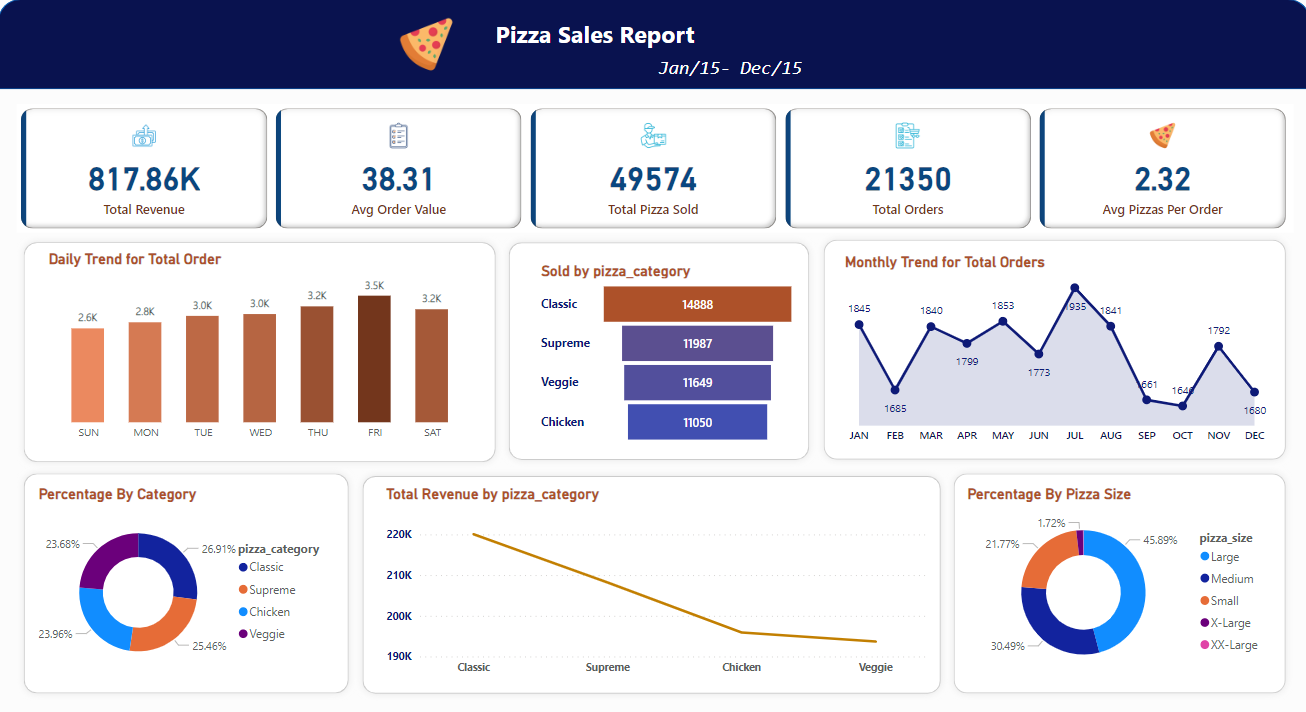

Layout of this report page (visuals, bound fields, positions):
{"tool":"powerbi","page":{"name":"Page 1","canvas":[1500,820],"ordinal":0},"visuals":[{"type":"cardVisual","fields":{"Data":["pizza_sales.Total Revenue","pizza_sales.Avg Order Value","pizza_sales.Total Pizza Sold","pizza_sales.Total Orders","pizza_sales.Avg Pizzas Per Order"]},"box":[20.9,119.7,1459,147.6],"z":0},{"type":"shape","box":[0,0,1500,102.9],"z":1000},{"type":"textbox","box":[558.3,16.7,255,45],"z":2000},{"type":"textbox","box":[725,61.7,225,36.7],"z":3000},{"type":"image","box":[421.8,15.3,136.4,72.4],"z":4000},{"type":"shape","box":[20.9,270.1,555.5,267.3],"z":5000},{"type":"columnChart","title":"Daily Trend for Total Order","fields":{"Category":["pizza_sales.Order Day"],"Y":["pizza_sales.Total Orders"]},"box":[52.9,286.8,494.2,226.9],"z":6000},{"type":"shape","box":[935.6,267.3,544.3,267.3],"z":7000},{"type":"areaChart","title":"Monthly Trend for Total Orders","fields":{"Category":["pizza_sales.Order Month"],"Y":["pizza_sales.Total Orders"]},"box":[963.4,289.6,494.2,226.9],"z":8000},{"type":"shape","box":[20.9,534.6,387,267.3],"z":9000},{"type":"shape","box":[576.4,270.1,359.2,264.5],"z":10000},{"type":"shape","box":[1084.5,534.6,395.4,267.3],"z":11000},{"type":"donutChart","title":"Percentage By Category","fields":{"Category":["pizza_sales.pizza_category"],"Y":["pizza_sales.Total Revenue"]},"box":[41.8,555.5,346.7,225.5],"z":12000},{"type":"donutChart","title":"Percentage By Pizza Size","fields":{"Category":["pizza_sales.pizza_size"],"Y":["pizza_sales.Total Revenue"]},"box":[1102.6,555.5,355,225.5],"z":13000},{"type":"funnel","title":"Sold by pizza_category","fields":{"Category":["pizza_sales.pizza_category"],"Y":["pizza_sales.Total Pizza Sold"]},"box":[615.3,300.7,300.7,213],"z":14000},{"type":"shape","box":[407.9,537.4,676.6,264.5],"z":15000},{"type":"lineChart","fields":{"Category":["pizza_sales.pizza_category"],"Y":["pizza_sales.Total Revenue"]},"box":[438.5,555.5,630.7,225.5],"z":16000}]}

Visuals, with their boxes in screenshot pixels (x1, y1, x2, y2), scaled from the page's 1500x820 canvas onto the 1306x712 screenshot:
cardVisual - pizza_sales.Total Revenue x pizza_sales.Avg Order Value: l=18, t=104, r=1288, b=232
shape: l=0, t=0, r=1305, b=89
textbox: l=486, t=15, r=708, b=54
textbox: l=631, t=54, r=827, b=85
image: l=367, t=13, r=486, b=76
shape: l=18, t=235, r=502, b=467
"Daily Trend for Total Order" columnChart: l=46, t=249, r=476, b=446
shape: l=815, t=232, r=1288, b=464
"Monthly Trend for Total Orders" areaChart: l=839, t=251, r=1269, b=448
shape: l=18, t=464, r=355, b=696
shape: l=502, t=235, r=815, b=464
shape: l=944, t=464, r=1288, b=696
"Percentage By Category" donutChart: l=36, t=482, r=338, b=678
"Percentage By Pizza Size" donutChart: l=960, t=482, r=1269, b=678
"Sold by pizza_category" funnel: l=536, t=261, r=798, b=446
shape: l=355, t=467, r=944, b=696
lineChart - pizza_sales.pizza_category x pizza_sales.Total Revenue: l=382, t=482, r=931, b=678
